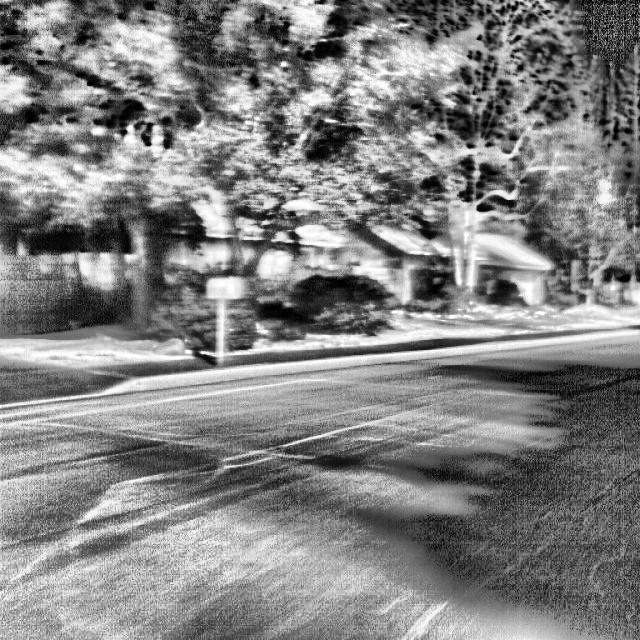mail box: (202, 261, 254, 357)
